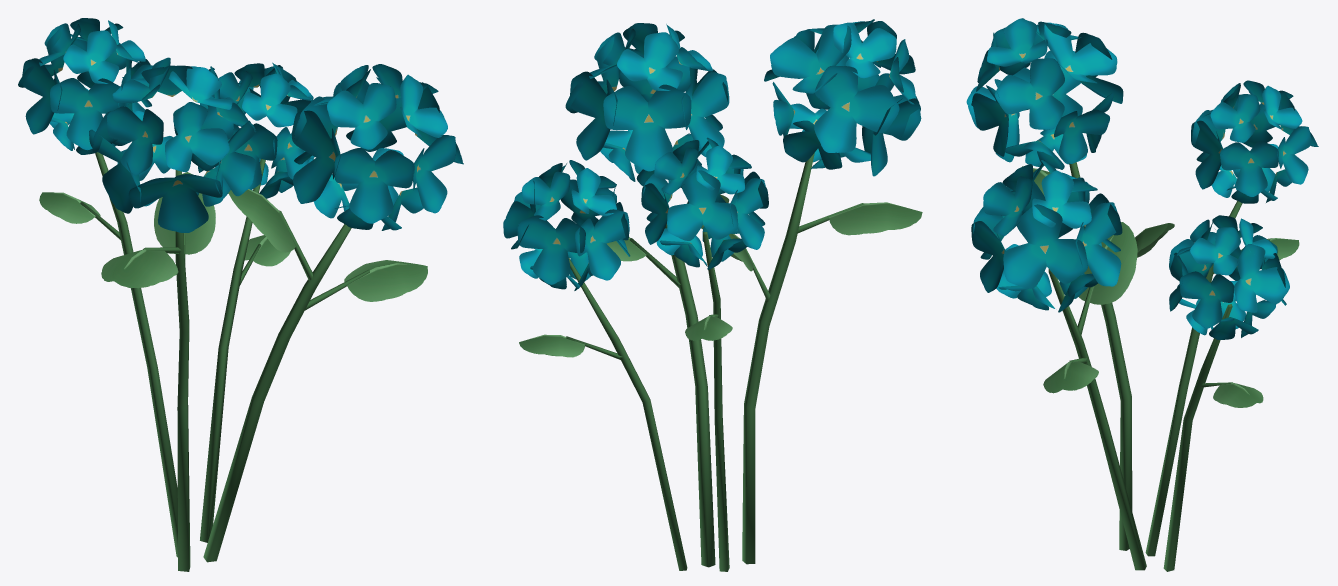
The model's file is flower_1_clump.gltf.
3 views of the same model, side by side, from view 1: azimuth 30°, elevation 25°; view 2: azimuth 150°, elevation 25°; view 3: azimuth 270°, elevation 25° (orthographic). The views are drawn at different scales.
Visible parts, largest first — view 1: Flower_1_Clump; view 2: Flower_1_Clump; view 3: Flower_1_Clump.
Part boxes in pixels (left/top/right/bottom): Flower_1_Clump: left=18, top=18, right=463, bottom=571; Flower_1_Clump: left=503, top=19, right=922, bottom=571; Flower_1_Clump: left=966, top=18, right=1318, bottom=571.
Bounding box in the file's own units: 0.4711 × 0.6713 × 0.4352.
1 material, 1 textured.
